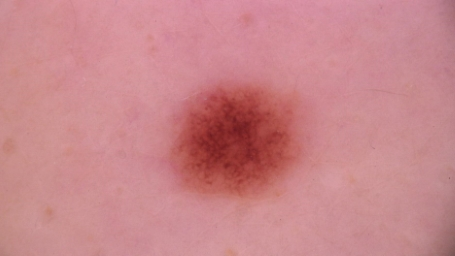melanoma: (174, 88, 298, 195)
